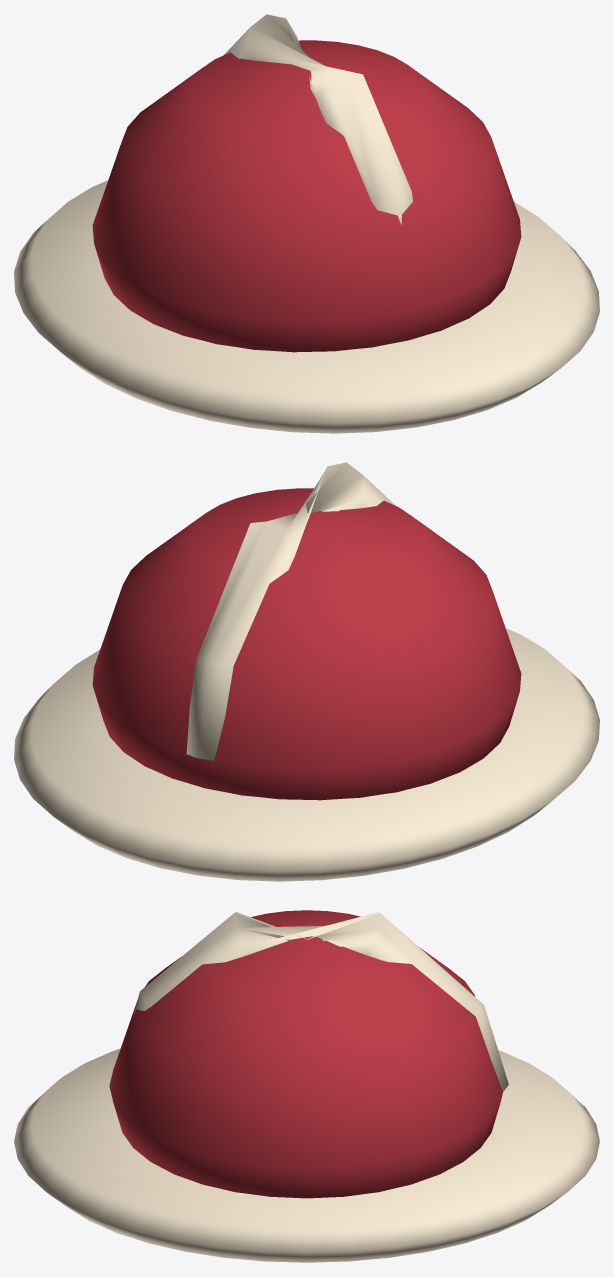
File: ACC_TH_CONSTRUCTION_Primary.fbx
3 views of the same model, one above another, from view 1: azimuth 30°, elevation 25°; view 2: azimuth 150°, elevation 25°; view 3: azimuth 270°, elevation 25° (orthographic). The views are drawn at different scales.
Parts seen in each view (by area): view 1: ACC_TH_CONSTRUCTION_Primary; view 2: ACC_TH_CONSTRUCTION_Primary; view 3: ACC_TH_CONSTRUCTION_Primary.
Part boxes in pixels (x1,y1,x2,y2): ACC_TH_CONSTRUCTION_Primary: (14, 14, 599, 433); ACC_TH_CONSTRUCTION_Primary: (14, 462, 599, 881); ACC_TH_CONSTRUCTION_Primary: (14, 910, 599, 1262).
Size of the model in its own units: 98 by 53.71 by 110.
